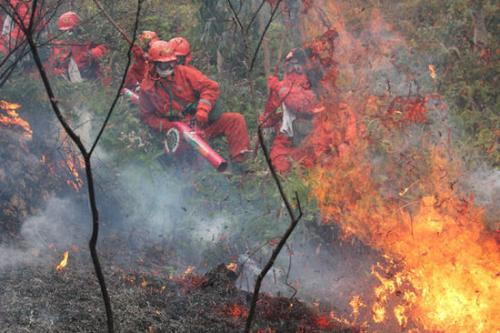fire: (379, 200, 500, 332)
smoke: (101, 142, 255, 262), (9, 142, 92, 255), (285, 233, 351, 299)
